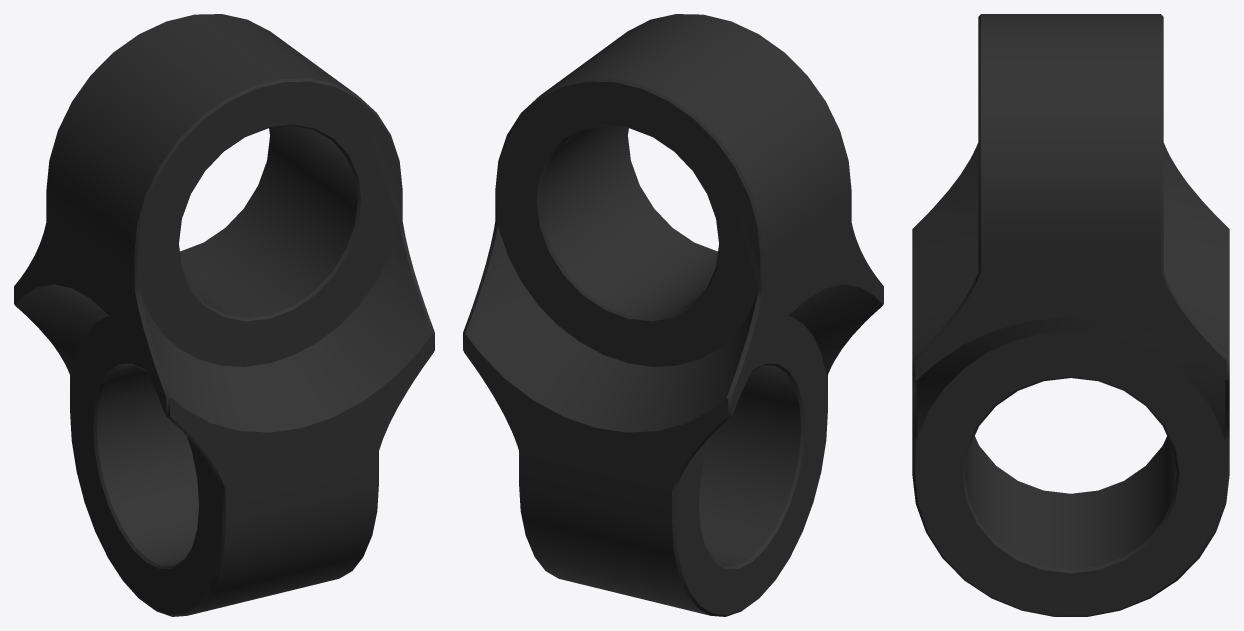
Rendered from link_head_x.glb.
3 renders of one model, left to right at view 1: azimuth 30°, elevation 25°; view 2: azimuth 150°, elevation 25°; view 3: azimuth 270°, elevation 25°, orthographic. The views are drawn at different scales.
Parts seen in each view (by area): view 1: link_head_x; view 2: link_head_x; view 3: link_head_x.
Boxes of the visible parts, x1,y1,x2,y2 form: link_head_x: (14, 14, 434, 616); link_head_x: (463, 14, 883, 616); link_head_x: (912, 14, 1229, 616).
Size of the model in its own units: 0.012 by 0.0229 by 0.012.
Materials: 1 (1 with a texture image).
